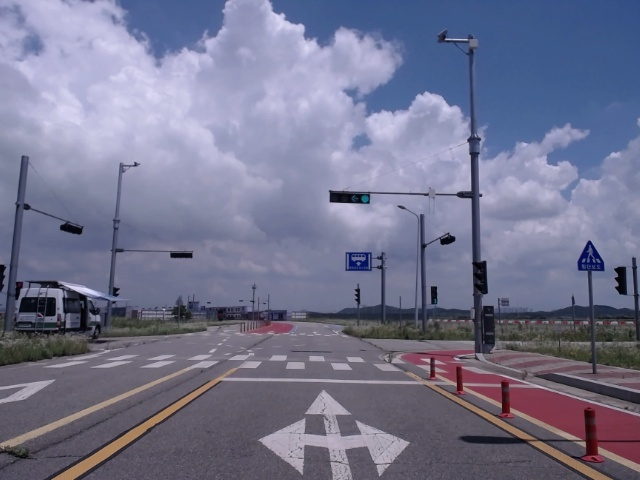all_green_4: (329, 190, 368, 203)
